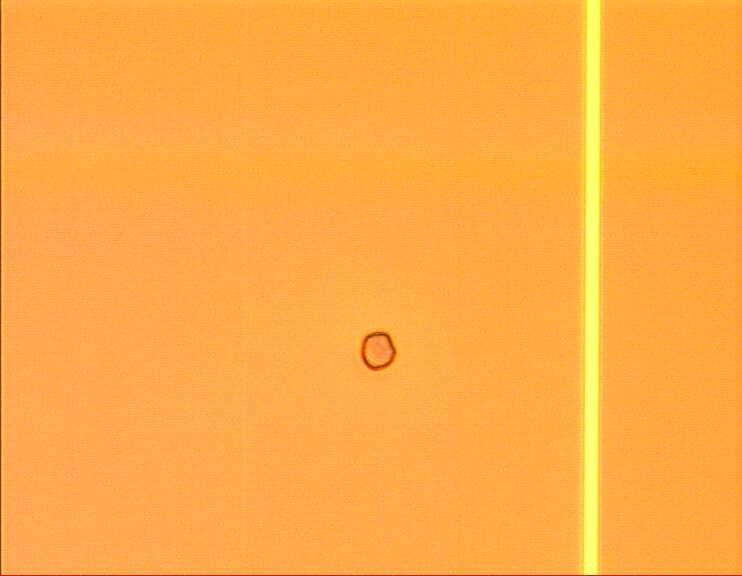PIQ PARTICLE: (358, 330, 402, 374)
